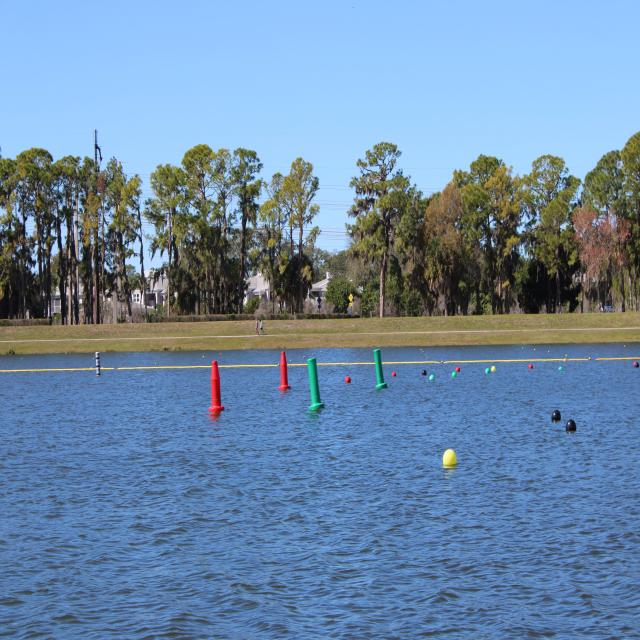black-buoy: (566, 418, 576, 432), (552, 410, 562, 423)
green-buoy: (450, 370, 455, 378)
green-column-buoy: (307, 354, 322, 410), (373, 348, 386, 389)
red-buoy: (346, 376, 352, 385)
red-column-buoy: (210, 360, 223, 412), (280, 350, 290, 391)
yellow-buoy: (441, 447, 456, 467)
